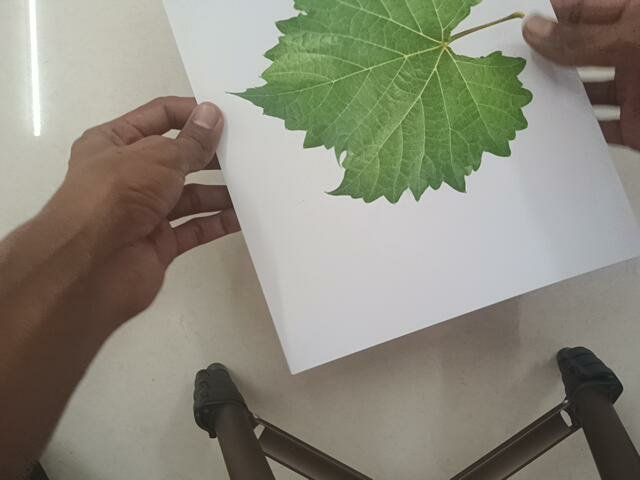Grape_Healthy: (244, 5, 528, 207)
